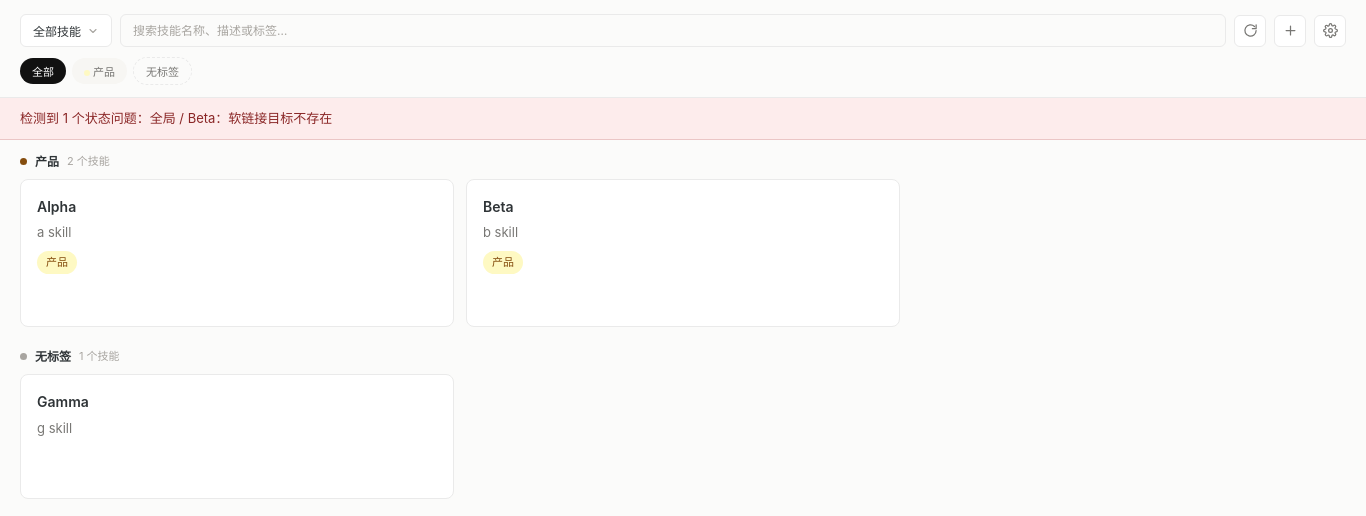
Test case: Hook order (U19): search filters to zero, clearing restores results › 0→nonzero transition in one mounted instance does not crash
Expected: the button with class "skill-card" showing "Alpha a skill 产品" is shown, x1=20 y1=179 x2=454 y2=327
Type "zzz-no-match" into the field labelled "搜索技能". click: (673, 30)
box: x1=120 y1=14 x2=1226 y2=47
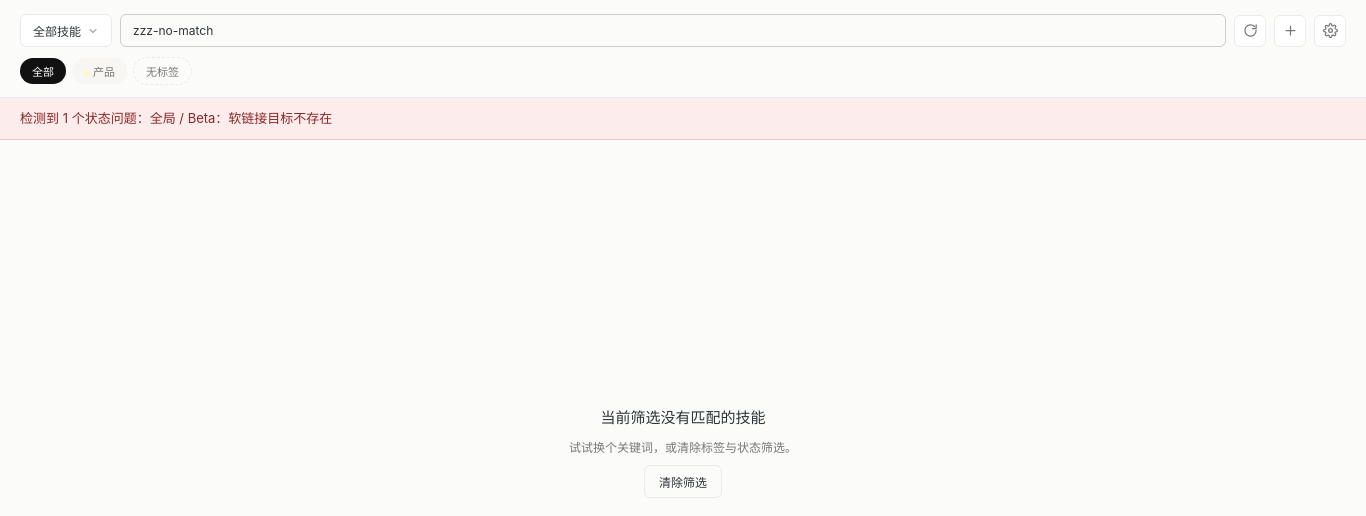
Now the button "Gamma" is gone
// Clear search → results return (the 0→nonzero transition that used to crash).
Clear the field named "搜索技能". click: (673, 30)
box: x1=120 y1=14 x2=1226 y2=47
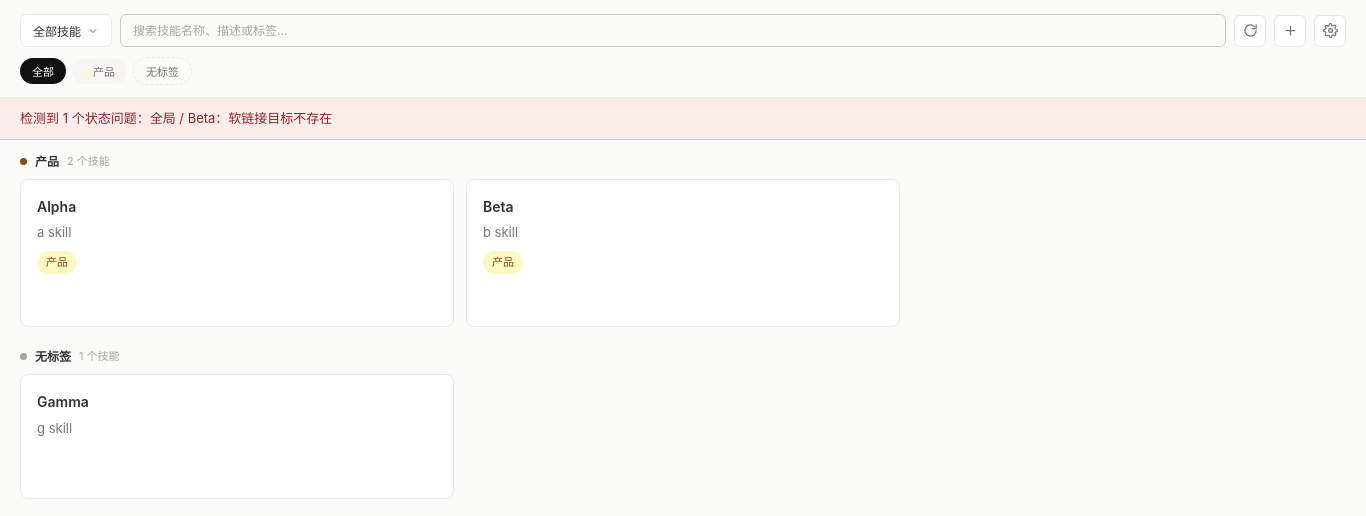
Now the text "Gamma" is shown, box x1=37 y1=391 x2=89 y2=414
